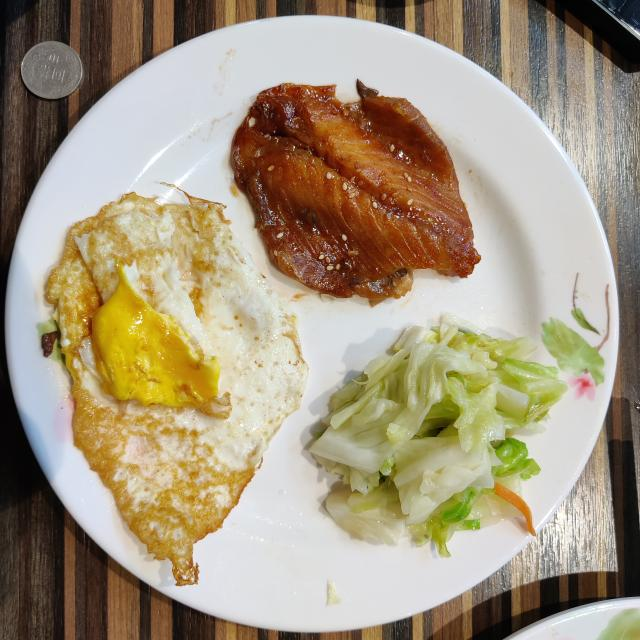Kabayaki sea bream fillet: (231, 82, 480, 301)
cabbage: (309, 315, 568, 558)
coin: (21, 41, 82, 99)
